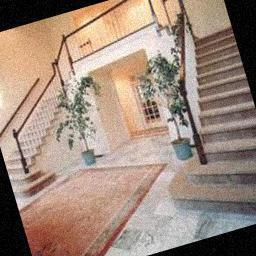Escaleras: (134, 21, 256, 223), (0, 33, 103, 203)
Matera: (133, 52, 200, 165), (46, 77, 119, 175)
